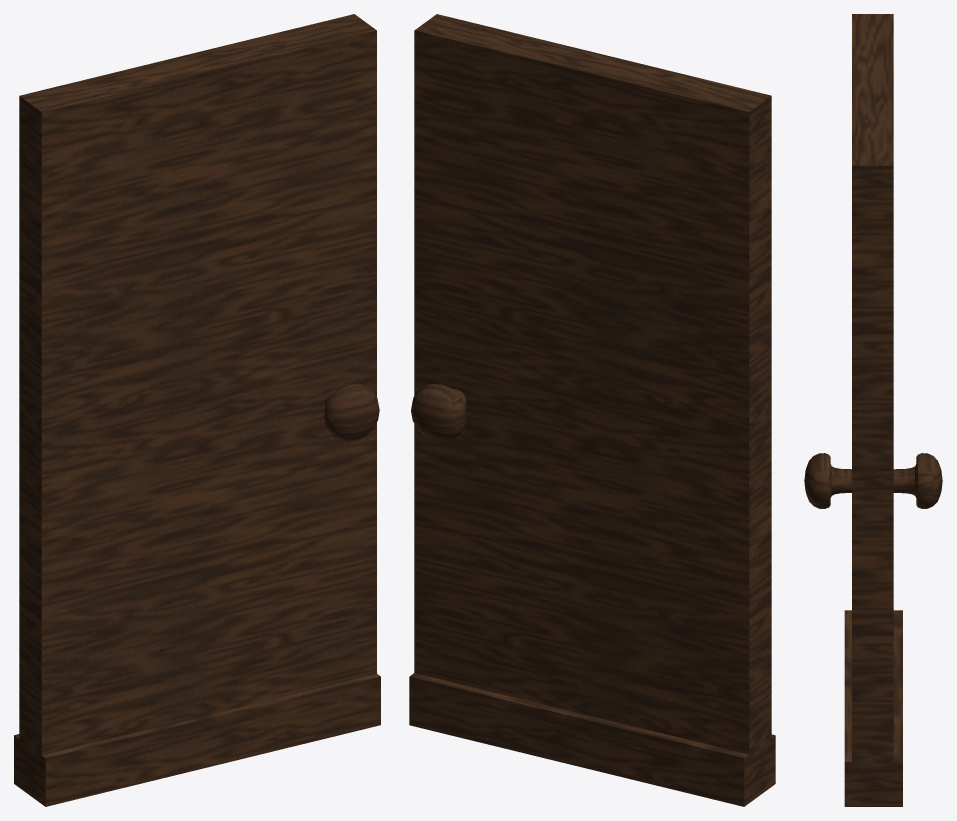
The model's file is Door.003.fbx.
3 renders of one model, left to right at view 1: azimuth 30°, elevation 25°; view 2: azimuth 150°, elevation 25°; view 3: azimuth 270°, elevation 25°, orthographic. The views are drawn at different scales.
Parts seen in each view (by area): view 1: Door.003; view 2: Door.003; view 3: Door.003.
Part boxes in pixels (left/top/right/bottom): Door.003: left=14, top=14, right=380, bottom=806; Door.003: left=409, top=14, right=775, bottom=806; Door.003: left=804, top=14, right=942, bottom=806.
Bounding box in the file's own units: 1.08 × 2.13 × 0.4154.
1 material, 1 textured.
